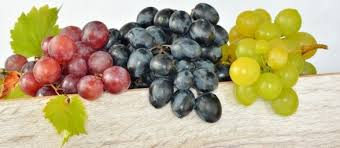Black grapes: (123, 17, 225, 103)
Green grapes: (237, 16, 322, 118)
Red Grapes: (22, 28, 121, 97)
